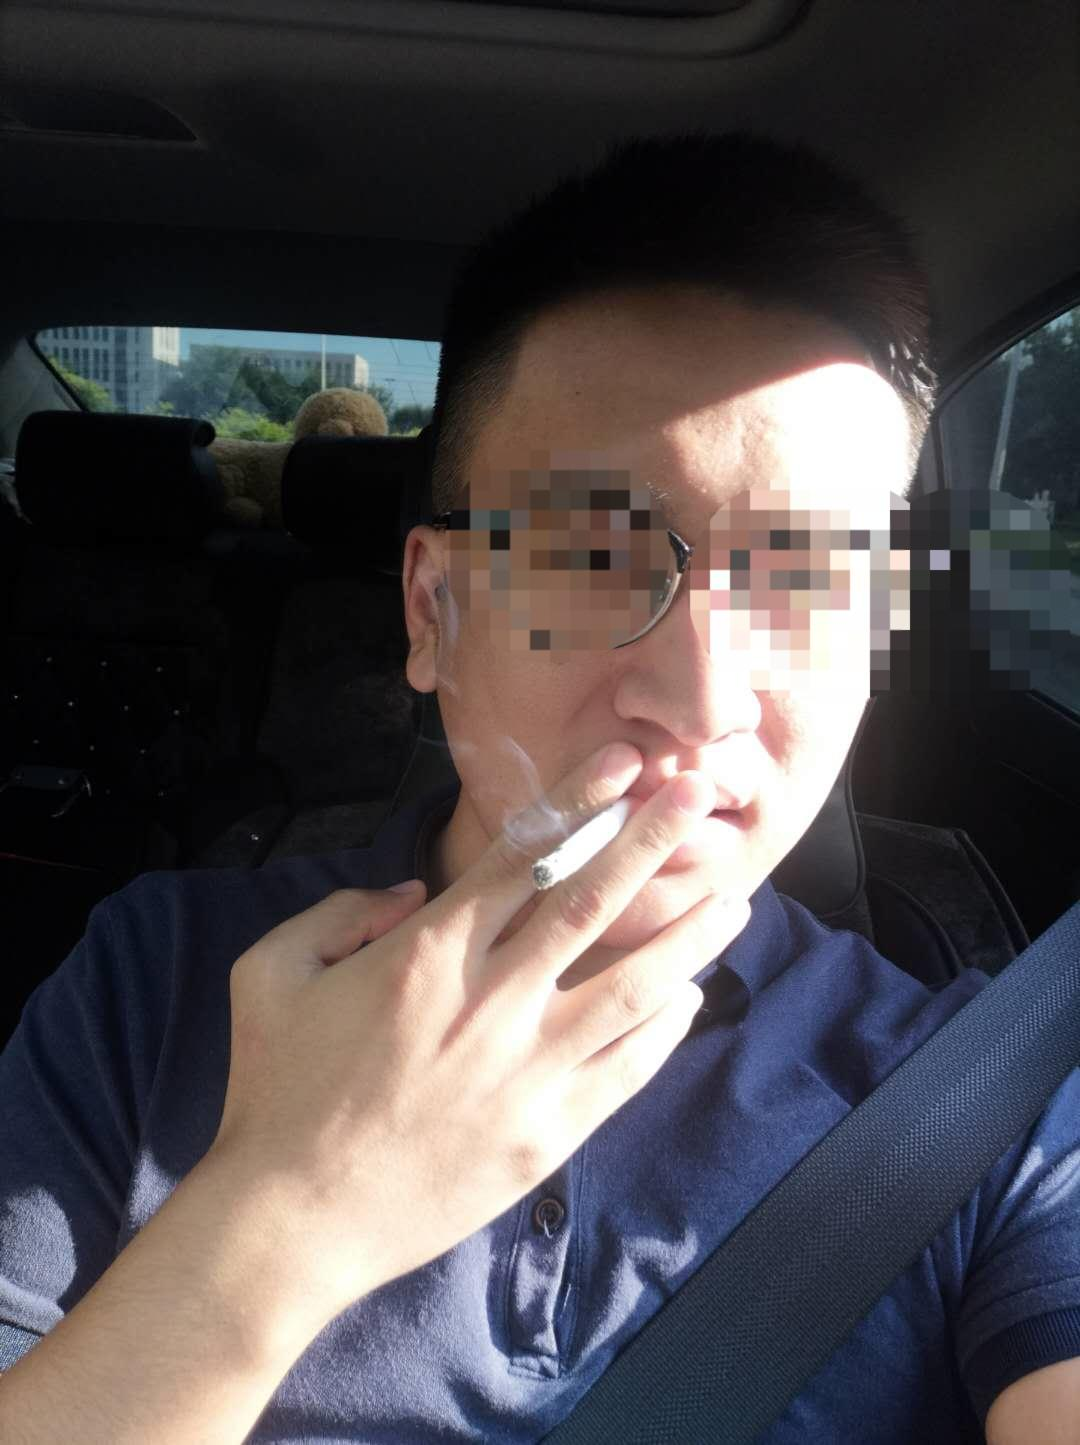smoke: (526, 798, 644, 893)
